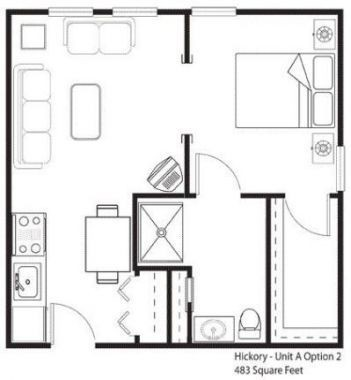door: (194, 147, 239, 204), (281, 189, 329, 242), (46, 300, 95, 349)
room: (2, 11, 194, 202), (138, 193, 340, 344), (184, 14, 336, 190), (6, 202, 134, 347)
wall: (94, 340, 349, 354), (4, 8, 14, 351), (336, 193, 348, 351), (334, 6, 346, 148), (264, 196, 275, 348), (238, 5, 344, 20), (129, 192, 140, 274), (133, 260, 193, 275), (164, 269, 176, 344), (132, 189, 196, 202), (183, 129, 194, 196), (181, 14, 192, 61), (237, 191, 288, 200), (156, 6, 190, 18), (94, 5, 114, 17)
window: (191, 4, 240, 21), (111, 4, 161, 18), (47, 6, 96, 20), (333, 146, 347, 193)
